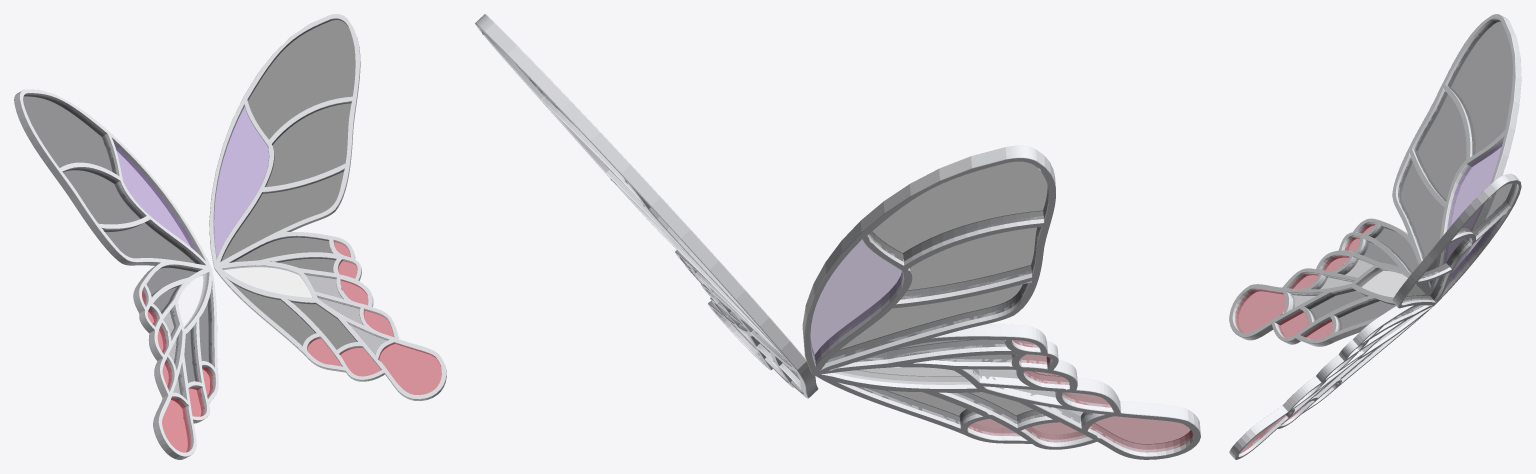
File: asset.glb
3 views of the same model, side by side, from view 1: azimuth 30°, elevation 25°; view 2: azimuth 150°, elevation 25°; view 3: azimuth 270°, elevation 25° (orthographic). The views are drawn at different scales.
Visible parts, largest first — view 1: 寬尾鳳蝶.svg.022, 寬尾鳳蝶.svg.026, 寬尾鳳蝶.svg.027, 寬尾鳳蝶.svg.023, 寬尾鳳蝶.svg.024, 寬尾鳳蝶.svg.019, 寬尾鳳蝶.svg.025, 寬尾鳳蝶.svg.018, 寬尾鳳蝶.svg.020, 寬尾鳳蝶.svg.021; view 2: 寬尾鳳蝶.svg.026, 寬尾鳳蝶.svg.023, 寬尾鳳蝶.svg.027, 寬尾鳳蝶.svg.018, 寬尾鳳蝶.svg.025, 寬尾鳳蝶.svg.021; view 3: 寬尾鳳蝶.svg.023, 寬尾鳳蝶.svg.026, 寬尾鳳蝶.svg.027, 寬尾鳳蝶.svg.025, 寬尾鳳蝶.svg.022, 寬尾鳳蝶.svg.018, 寬尾鳳蝶.svg.021, 寬尾鳳蝶.svg.019.
Part boxes in pixels (<box>): 寬尾鳳蝶.svg.022: <box>221,19,386,354</box>; 寬尾鳳蝶.svg.026: <box>14,89,218,459</box>; 寬尾鳳蝶.svg.027: <box>209,14,446,400</box>; 寬尾鳳蝶.svg.023: <box>23,94,211,395</box>; 寬尾鳳蝶.svg.024: <box>307,241,441,394</box>; 寬尾鳳蝶.svg.019: <box>214,106,268,257</box>; 寬尾鳳蝶.svg.025: <box>142,291,213,452</box>; 寬尾鳳蝶.svg.018: <box>114,143,198,253</box>; 寬尾鳳蝶.svg.020: <box>222,266,312,297</box>; 寬尾鳳蝶.svg.021: <box>178,273,206,327</box>; 寬尾鳳蝶.svg.026: <box>802,145,1200,459</box>; 寬尾鳳蝶.svg.023: <box>827,162,1092,423</box>; 寬尾鳳蝶.svg.027: <box>475,14,818,398</box>; 寬尾鳳蝶.svg.018: <box>810,240,902,361</box>; 寬尾鳳蝶.svg.025: <box>968,340,1192,452</box>; 寬尾鳳蝶.svg.021: <box>836,367,971,384</box>; 寬尾鳳蝶.svg.023: <box>1291,19,1512,330</box>; 寬尾鳳蝶.svg.026: <box>1229,14,1521,346</box>; 寬尾鳳蝶.svg.027: <box>1229,173,1521,459</box>; 寬尾鳳蝶.svg.025: <box>1235,224,1374,339</box>; 寬尾鳳蝶.svg.022: <box>1316,183,1516,395</box>; 寬尾鳳蝶.svg.018: <box>1444,141,1502,263</box>; 寬尾鳳蝶.svg.021: <box>1358,269,1424,297</box>; 寬尾鳳蝶.svg.019: <box>1447,219,1500,285</box>.
Size of the model in its own units: 1.03 by 0.836 by 0.734.
